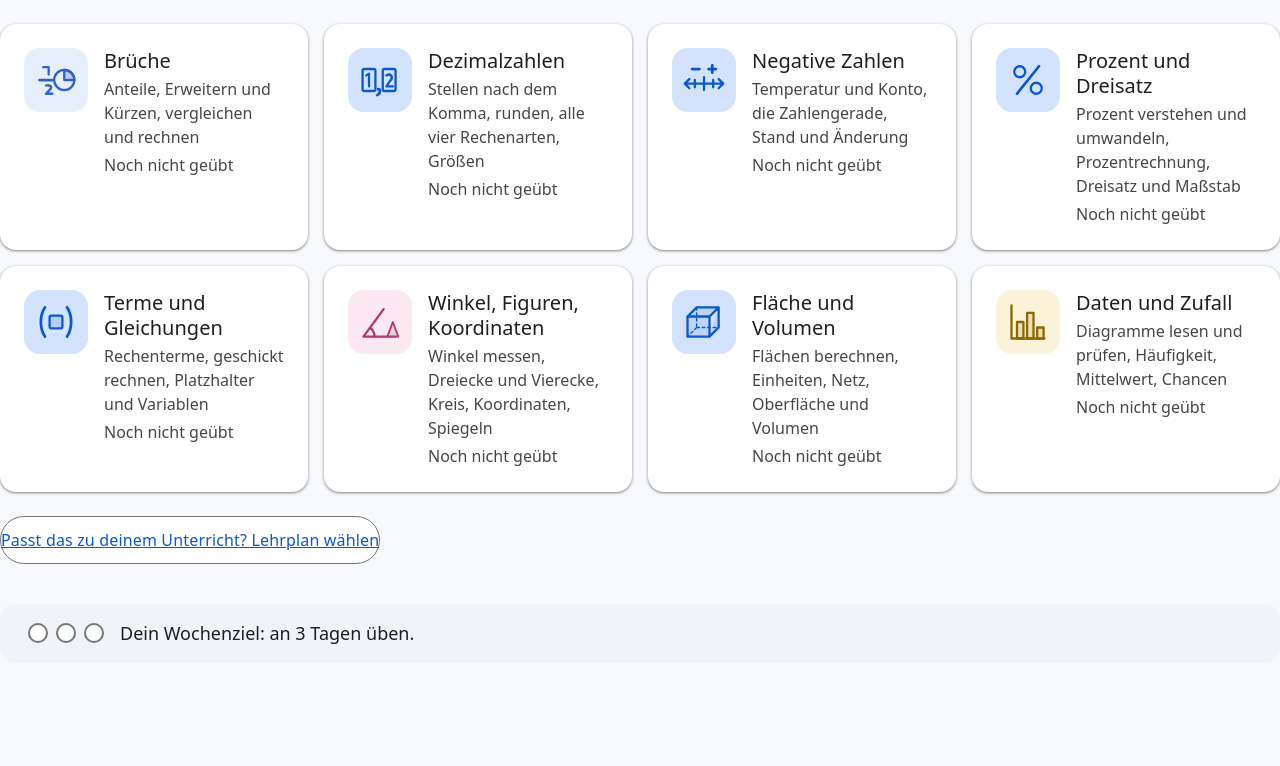
Test: HomePage › marking a radio changes nothing until Übernehmen, and the focus moves with the swap (WCAG 3.2.2, 2.4.3)
Click the button "Passt das zu deinem Unterricht? Lehrplan wählen".
click(190, 540)  # box [0, 516, 380, 564]
(page scrolled)
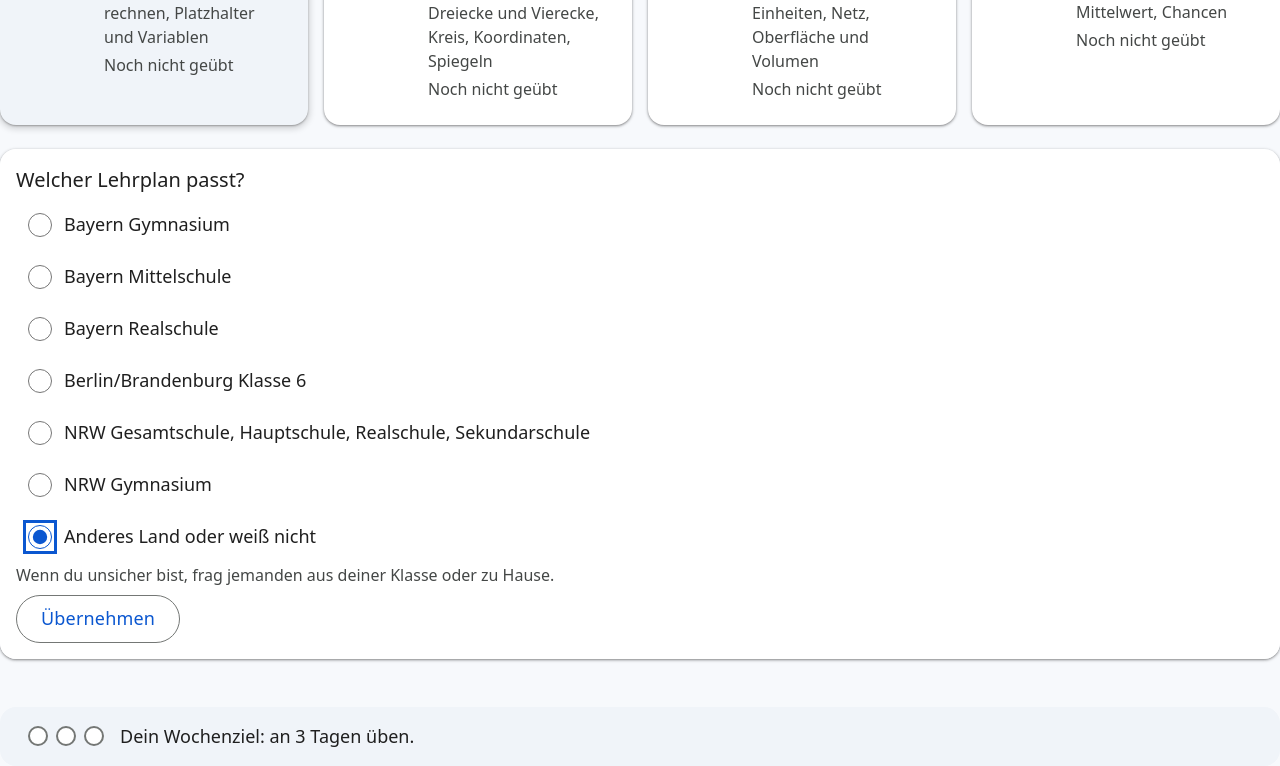
Click the radio button labelled "NRW Gymnasium".
click(40, 485)  # box [28, 473, 52, 497]
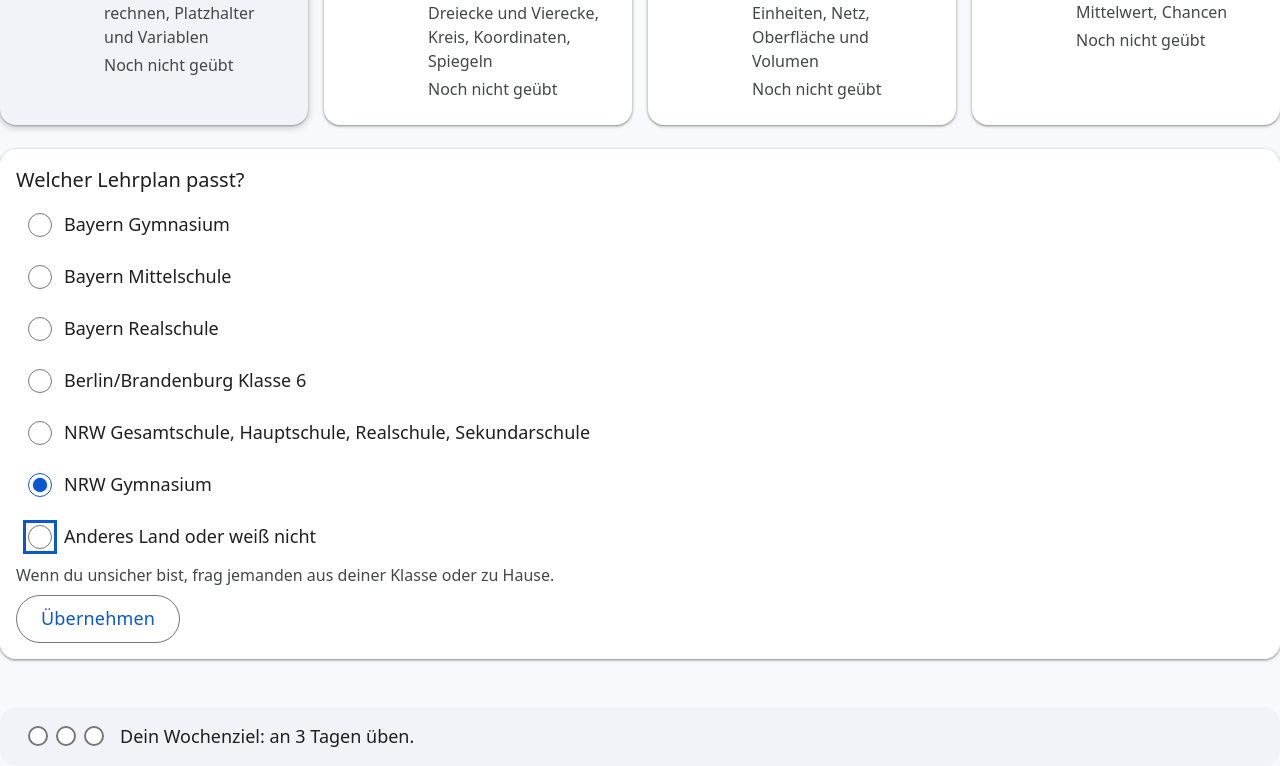
Click the radio button labelled "Bayern Gymnasium".
click(40, 225)  # box [28, 213, 52, 237]
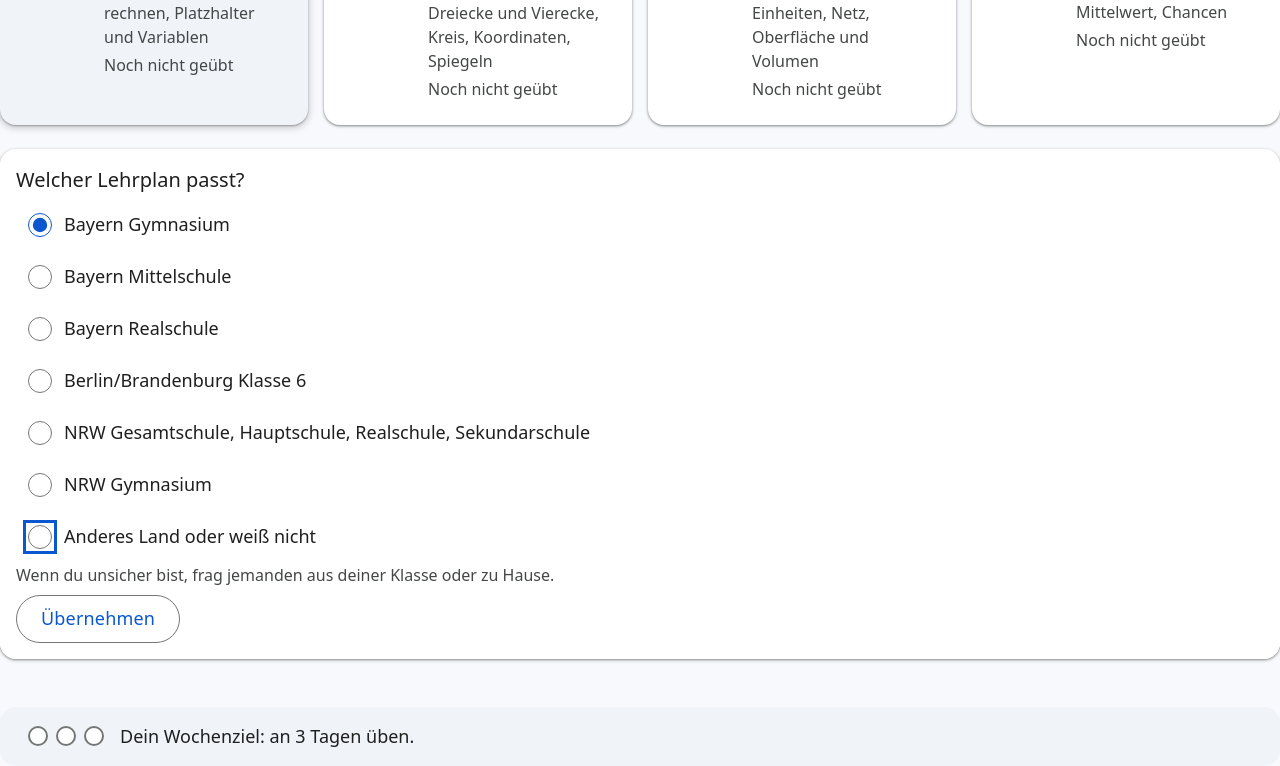
Expected: the radio button labelled "Bayern Gymnasium" is checked, [28, 213, 52, 237]
Expected: the element with test id "plan-choice" is shown
Click the button "Übernehmen".
click(98, 619)  # box [16, 595, 180, 643]
(page scrolled)
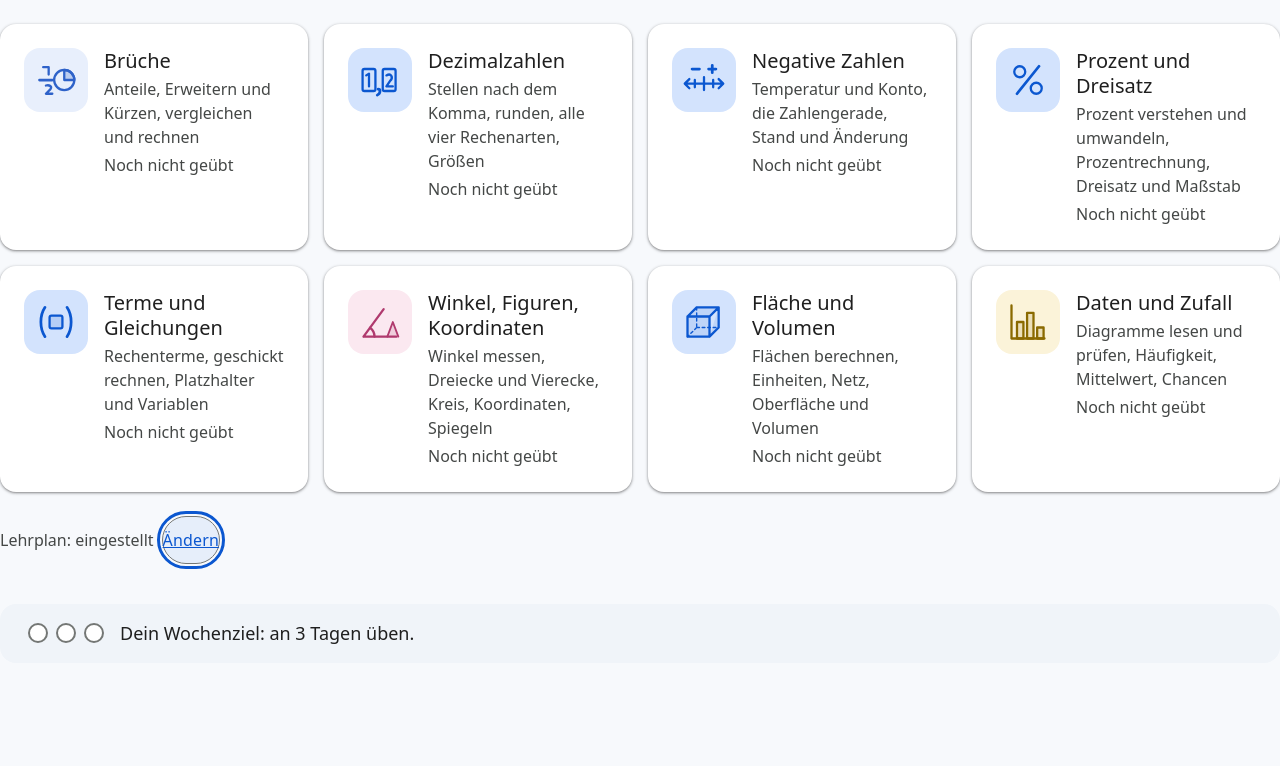
Expected: the element with test id "plan-choice" is gone
